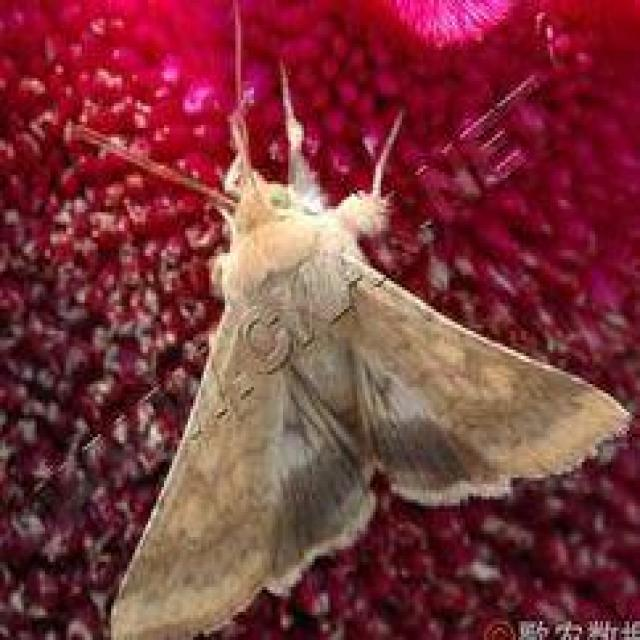BeetArmyWorm-Adult-: (49, 77, 636, 637)
